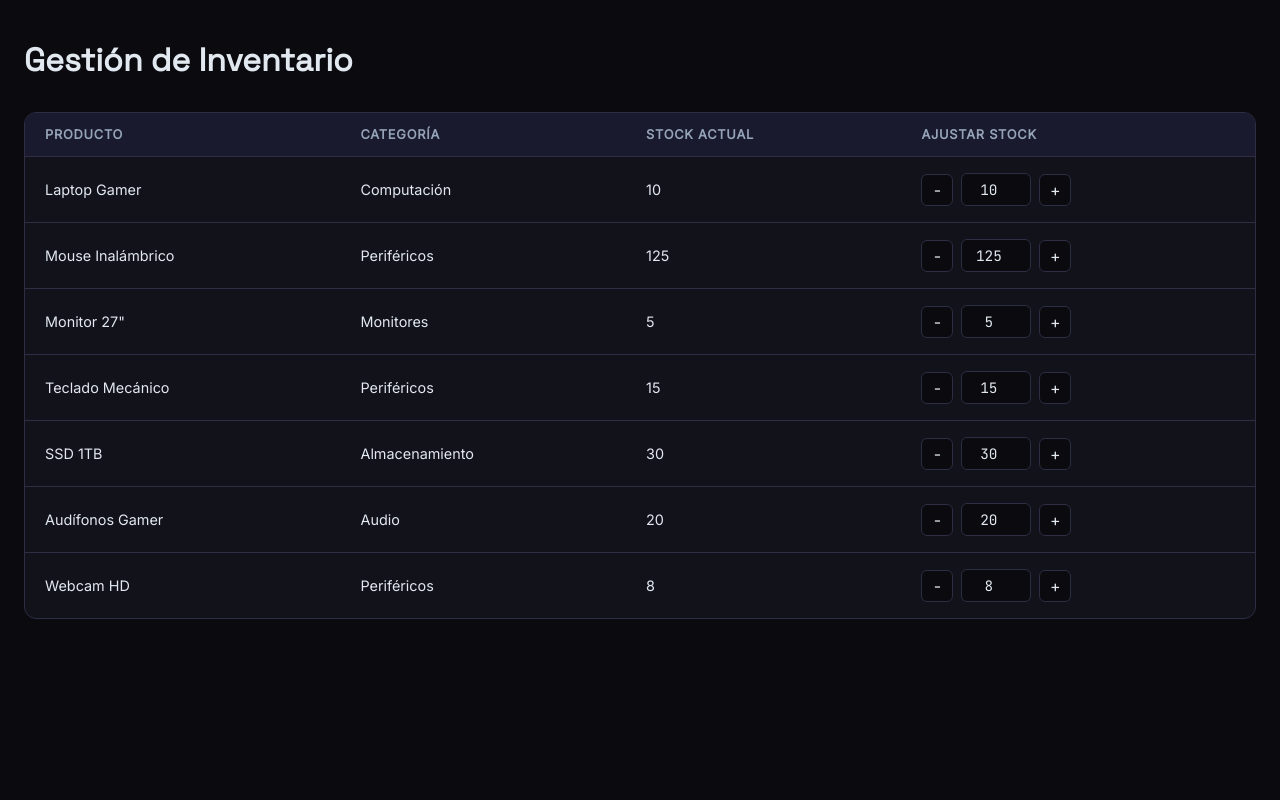
HU-ADMIN-04 · Gestión de Inventario › CA5 (Error): revierte stock y muestra error si API falla
Click the button with test id "btn-incrementar-1". click: click(1055, 190)
box: [1039,174,1071,206]
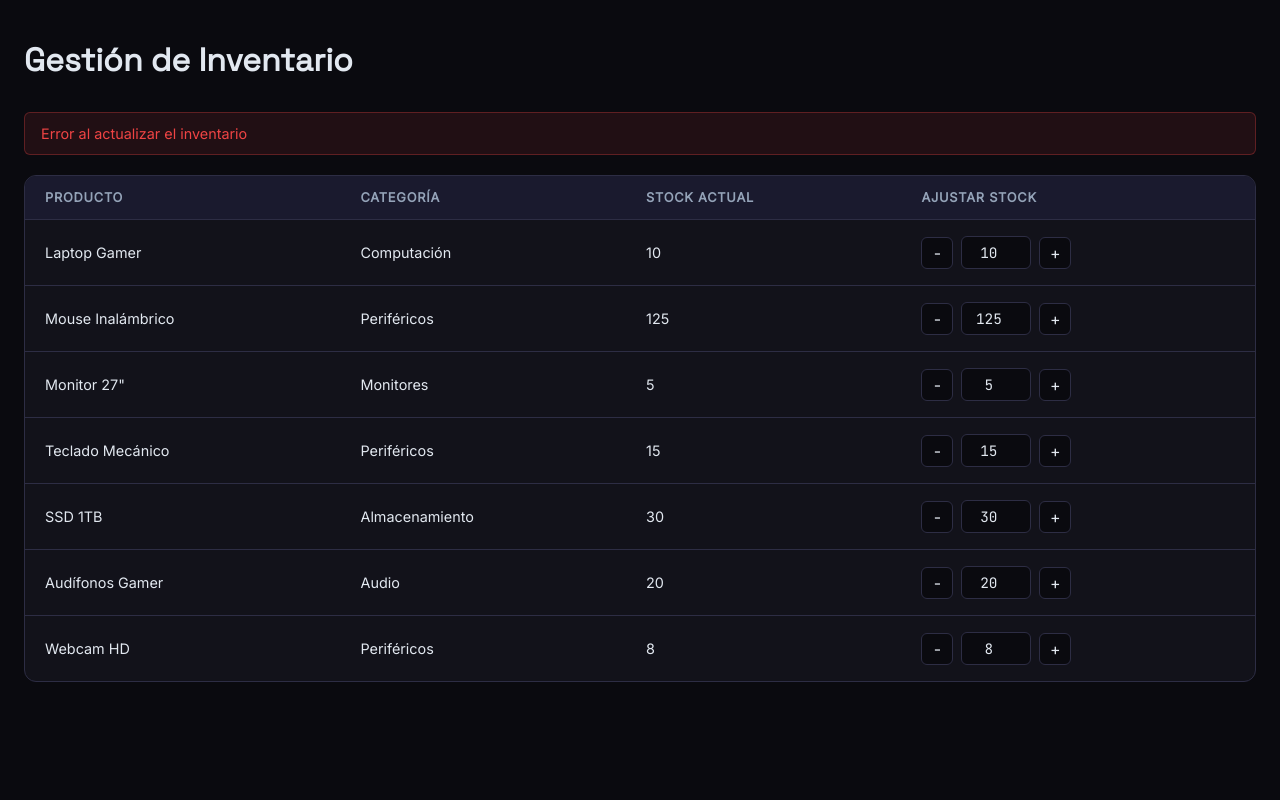
expect the text with test id "stock-actual-1" reads "10": met, box [646,244,661,261]
expect the text "Error al actualizar el inventario" is shown: met, box [24,112,1256,155]
